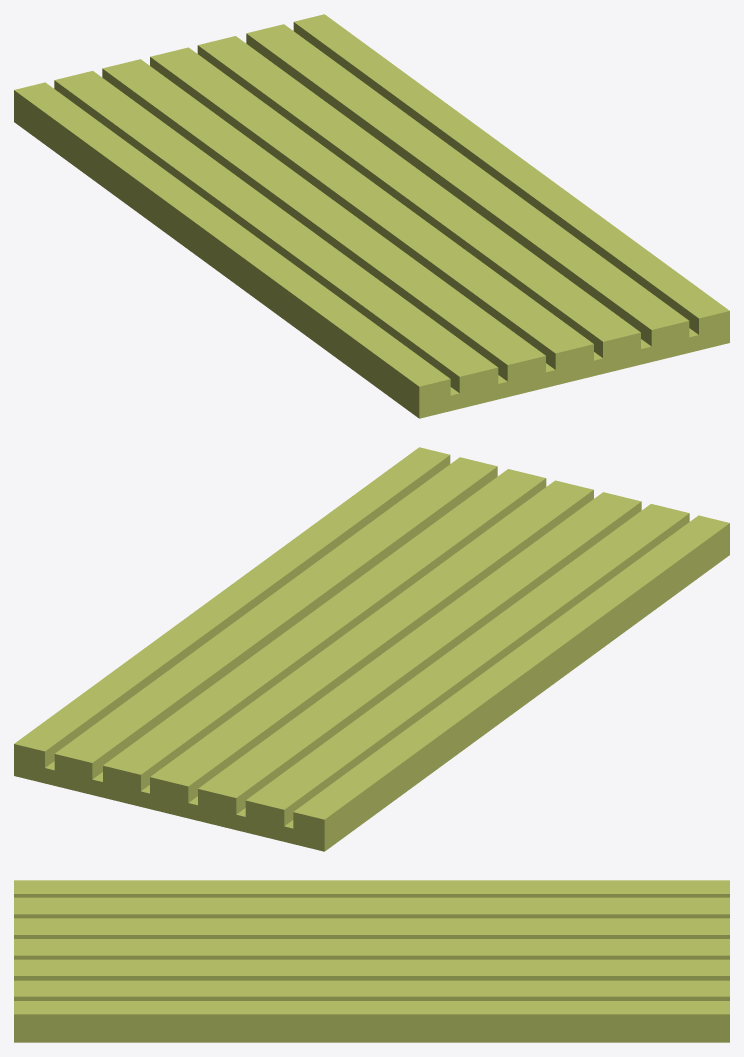
Rendered from field.fbx.
The picture shows the model from 3 angles, top to bottom: view 1: azimuth 30°, elevation 25°; view 2: azimuth 150°, elevation 25°; view 3: azimuth 270°, elevation 25°; orthographic projection. The views are drawn at different scales.
Visible parts, largest first — view 1: Champ_LD5; view 2: Champ_LD5; view 3: Champ_LD5.
Boxes of the visible parts, <box> form: Champ_LD5: <box>14,14,729,418</box>; Champ_LD5: <box>14,447,729,851</box>; Champ_LD5: <box>14,880,729,1042</box>.
Bounding box in the file's own units: 13364 × 1318 × 30203.
